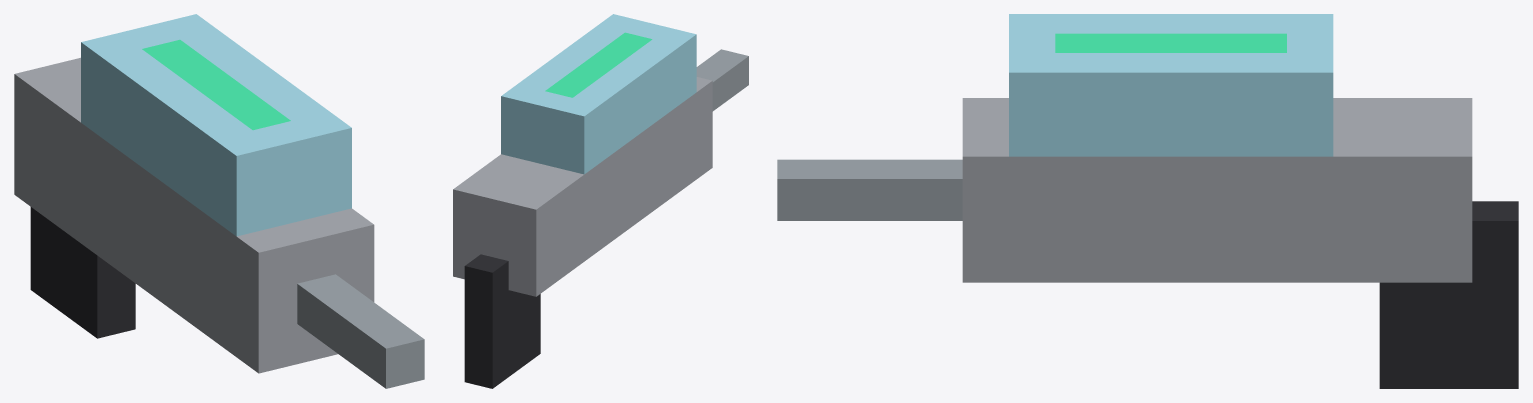
Rendered from vox_injector_hv.glb.
The picture shows the model from 3 angles, left to right: view 1: azimuth 30°, elevation 25°; view 2: azimuth 150°, elevation 25°; view 3: azimuth 270°, elevation 25°; orthographic projection. The views are drawn at different scales.
Visible parts, largest first — view 1: vox_injector_hv; view 2: vox_injector_hv; view 3: vox_injector_hv.
Boxes of the visible parts, x1,y1,x2,y2 form: vox_injector_hv: [14, 14, 424, 388]; vox_injector_hv: [453, 14, 748, 388]; vox_injector_hv: [777, 14, 1518, 388].
Bounding box in the file's own units: 0.06 × 0.16 × 0.32.
